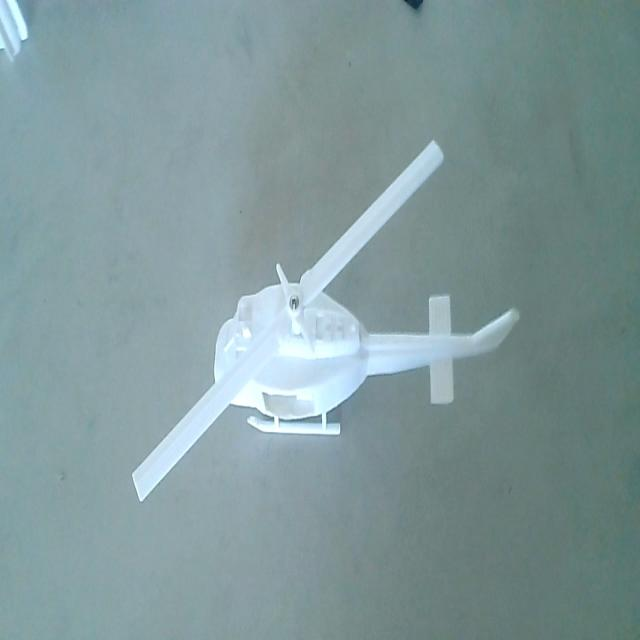Helicopter: (128, 132, 522, 526)
